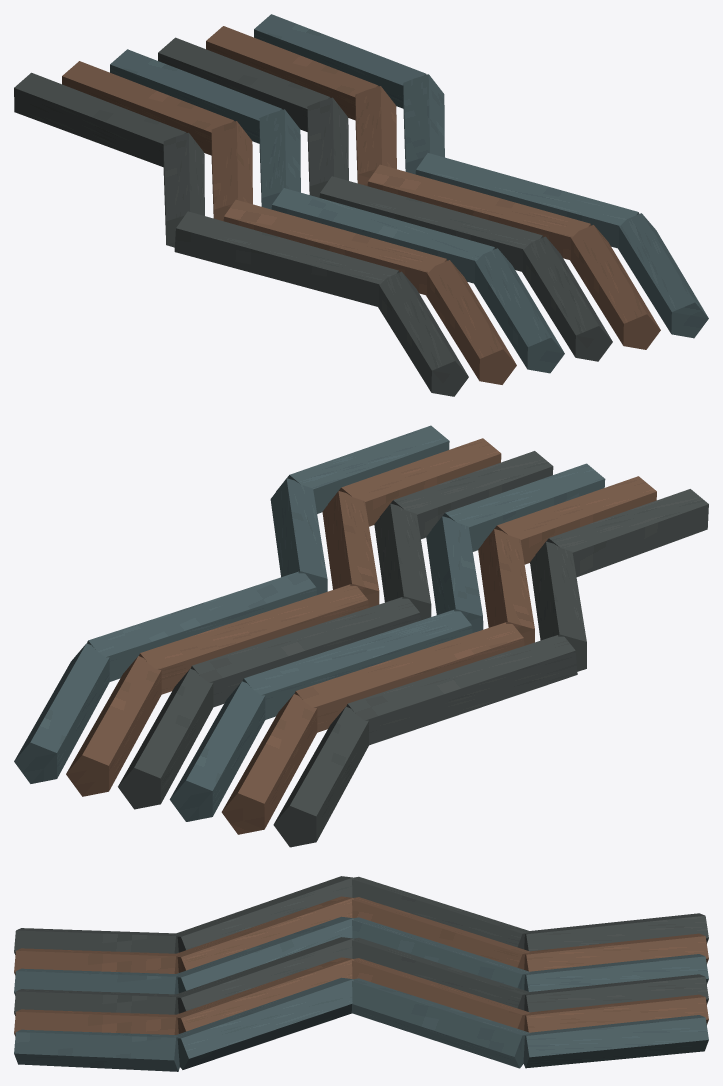
Rendered from f_ground_cable.glb.
The picture shows the model from 3 angles, top to bottom: view 1: azimuth 30°, elevation 25°; view 2: azimuth 150°, elevation 25°; view 3: azimuth 270°, elevation 25°; orthographic projection. The views are drawn at different scales.
Visible parts, largest first — view 1: block_heavy-electrical-cable-3 (×6), block_heavy-electrical-cable-4 (×6), block_heavy-electrical-cable-1 (×6), block_heavy-electrical-cable-2 (×6); view 2: block_heavy-electrical-cable-2 (×6), block_heavy-electrical-cable-1 (×6), block_heavy-electrical-cable-4 (×6), block_heavy-electrical-cable-3 (×6); view 3: block_heavy-electrical-cable-1 (×6), block_heavy-electrical-cable-3 (×6), block_heavy-electrical-cable-2 (×6), block_heavy-electrical-cable-4 (×6).
Boxes of the visible parts, left/top/right/bottom form: block_heavy-electrical-cable-3 (×6): left=174, top=153, right=639, bottom=306; block_heavy-electrical-cable-4 (×6): left=378, top=213, right=708, bottom=396; block_heavy-electrical-cable-1 (×6): left=14, top=14, right=426, bottom=167; block_heavy-electrical-cable-2 (×6): left=163, top=74, right=444, bottom=247; block_heavy-electrical-cable-2 (×6): left=87, top=571, right=577, bottom=745; block_heavy-electrical-cable-1 (×6): left=14, top=643, right=368, bottom=847; block_heavy-electrical-cable-4 (×6): left=276, top=425, right=708, bottom=576; block_heavy-electrical-cable-3 (×6): left=270, top=478, right=586, bottom=671; block_heavy-electrical-cable-1 (×6): left=523, top=913, right=708, bottom=1068; block_heavy-electrical-cable-3 (×6): left=176, top=876, right=353, bottom=1069; block_heavy-electrical-cable-2 (×6): left=351, top=876, right=530, bottom=1068; block_heavy-electrical-cable-4 (×6): left=14, top=928, right=179, bottom=1071.
Bounding box in the file's own units: 0.5291 × 0.082 × 0.9535.
1 material, 1 textured.
